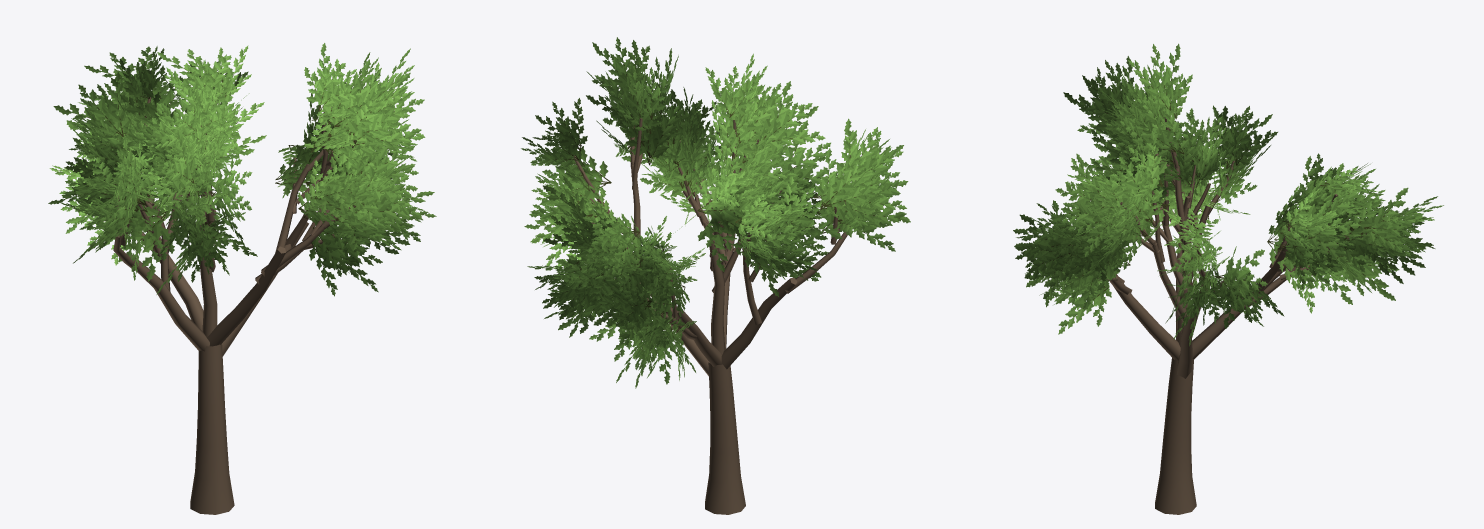
Rendered from oak_1.glb.
The picture shows the model from 3 angles, left to right: view 1: azimuth 30°, elevation 25°; view 2: azimuth 150°, elevation 25°; view 3: azimuth 270°, elevation 25°; orthographic projection. The views are drawn at different scales.
Visible parts, largest first — view 1: oak_1; view 2: oak_1; view 3: oak_1.
Boxes of the visible parts, <box> form: oak_1: <box>48,43,436,514</box>; oak_1: <box>521,37,910,514</box>; oak_1: <box>1013,43,1443,514</box>.
Size of the model in its own units: 9.35 by 10.63 by 10.04.
Materials: 2 (1 with a texture image).
